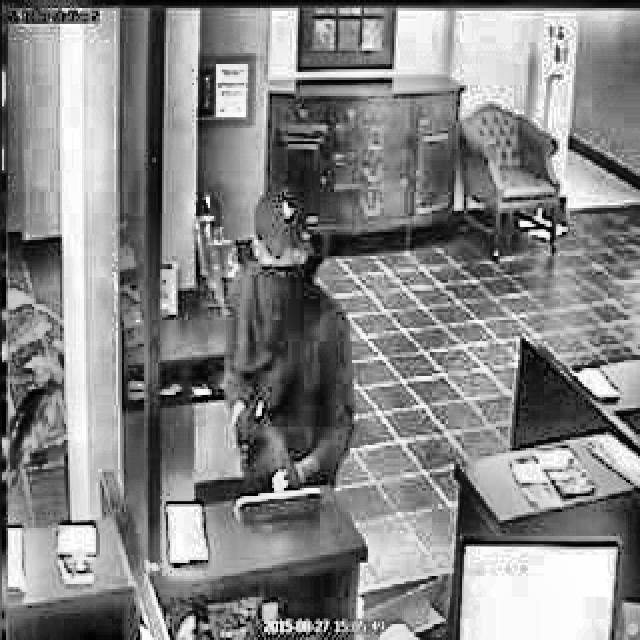robbery: (210, 191, 370, 506)
